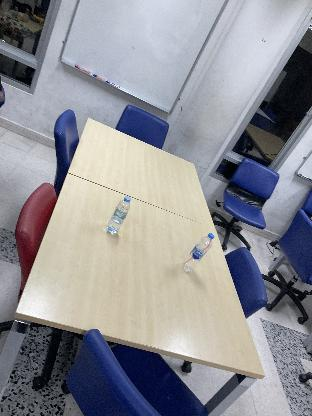Plastic Bottle: (181, 232, 214, 274), (107, 196, 131, 236)
